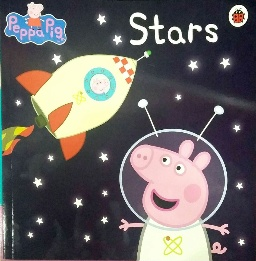Peppa: (118, 138, 231, 261)
